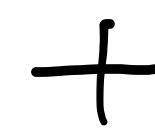plus: (32, 19, 155, 125)
